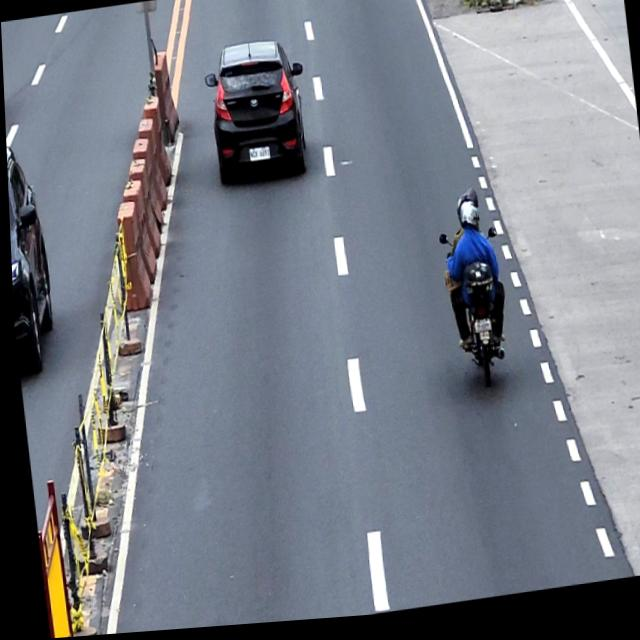Car: (202, 36, 314, 188), (5, 139, 58, 374)
License-Plate: (247, 149, 269, 165), (470, 323, 489, 340)
Motorcycle: (435, 226, 511, 402)
